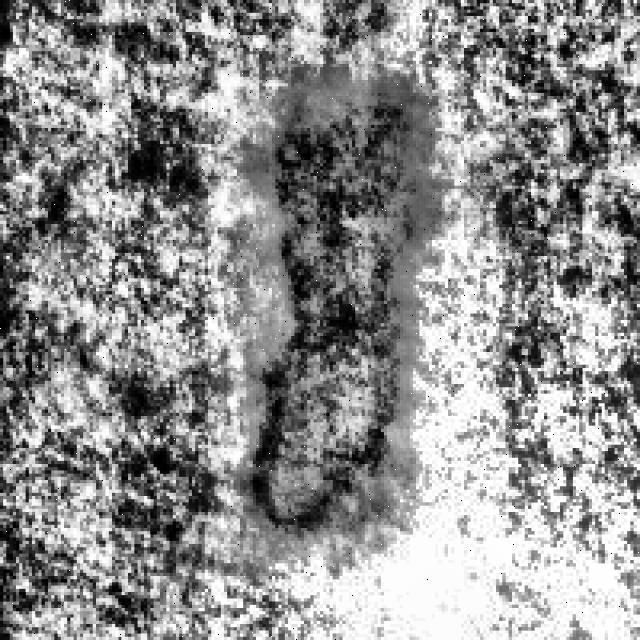Scratches: (256, 74, 432, 528)
